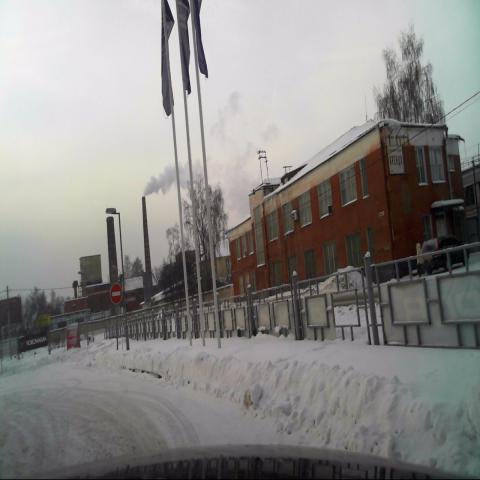3_1: (111, 282, 122, 304)
